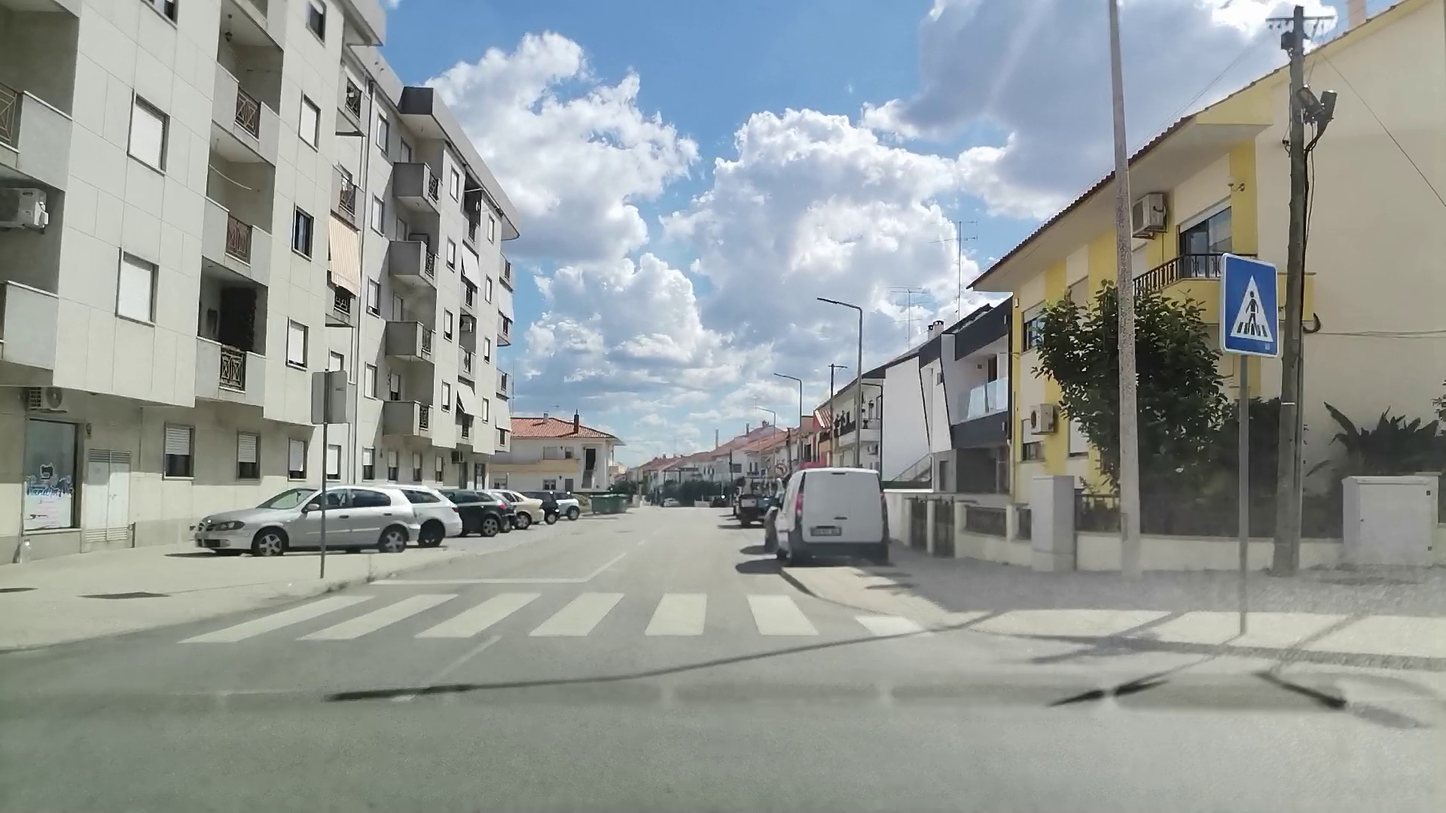Stairs: (177, 590, 935, 645)
